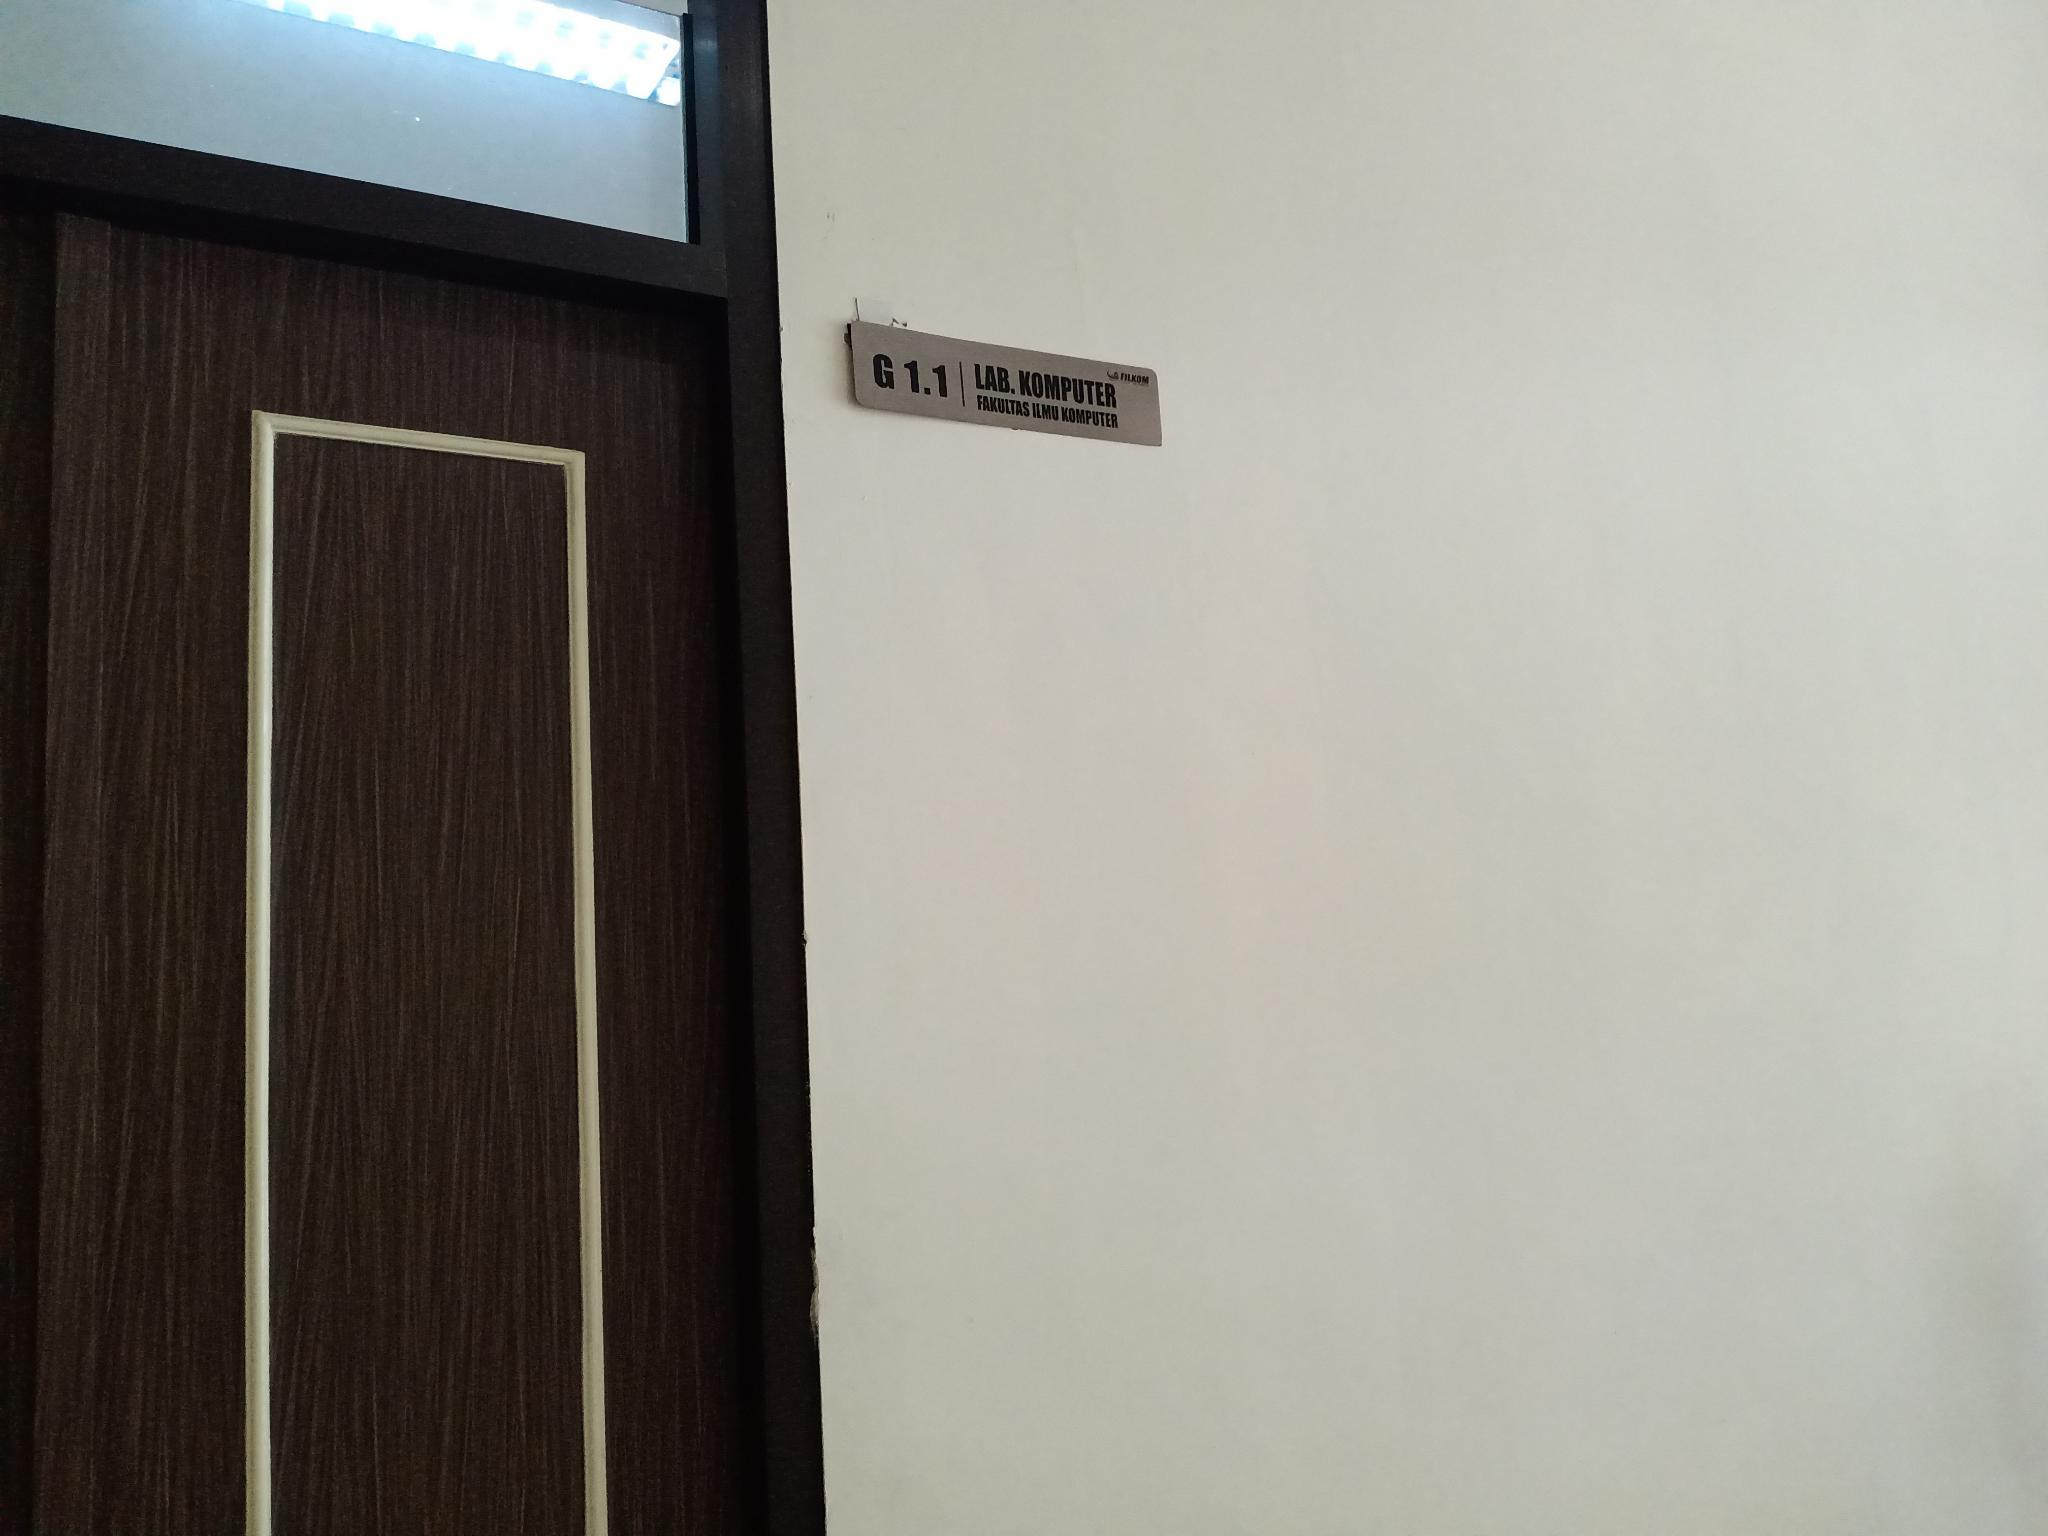plate: (850, 318, 1163, 447)
